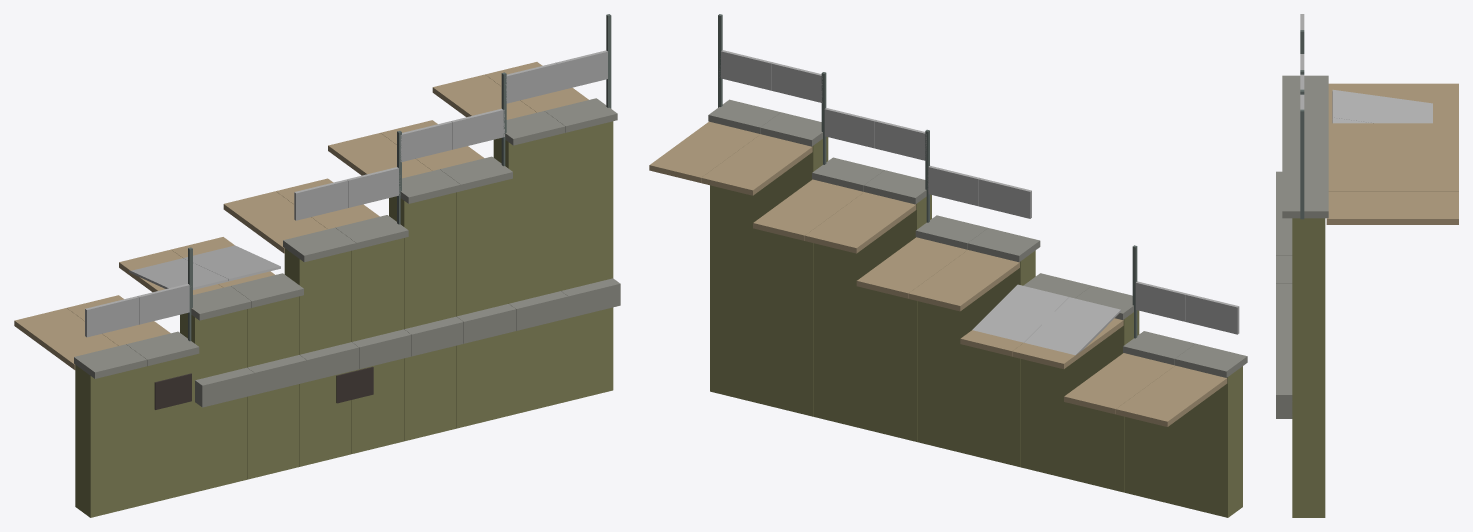
The model's file is SM_MuroRampa_v4_Escalonado_e1_Danado_LOD1.fbx.
3 renders of one model, left to right at view 1: azimuth 30°, elevation 25°; view 2: azimuth 150°, elevation 25°; view 3: azimuth 270°, elevation 25°, orthographic. The views are drawn at different scales.
Parts seen in each view (by area): view 1: SM_muro_rampa_v17_LOD1; view 2: SM_muro_rampa_v17_LOD1; view 3: SM_muro_rampa_v17_LOD1.
Part boxes in pixels (x1,y1,x2,y2): SM_muro_rampa_v17_LOD1: (14, 14, 620, 517); SM_muro_rampa_v17_LOD1: (649, 14, 1247, 517); SM_muro_rampa_v17_LOD1: (1276, 14, 1458, 517).
Size of the model in its own units: 10.03 by 6.8 by 2.77.
